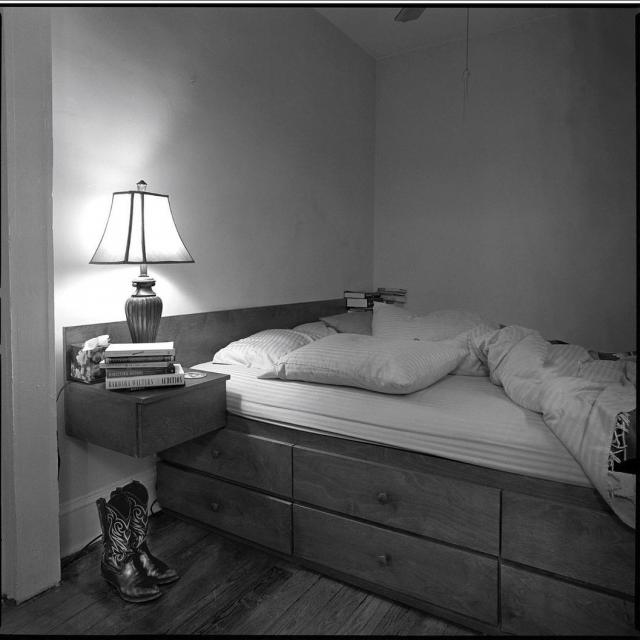bed: (209, 273, 640, 581)
